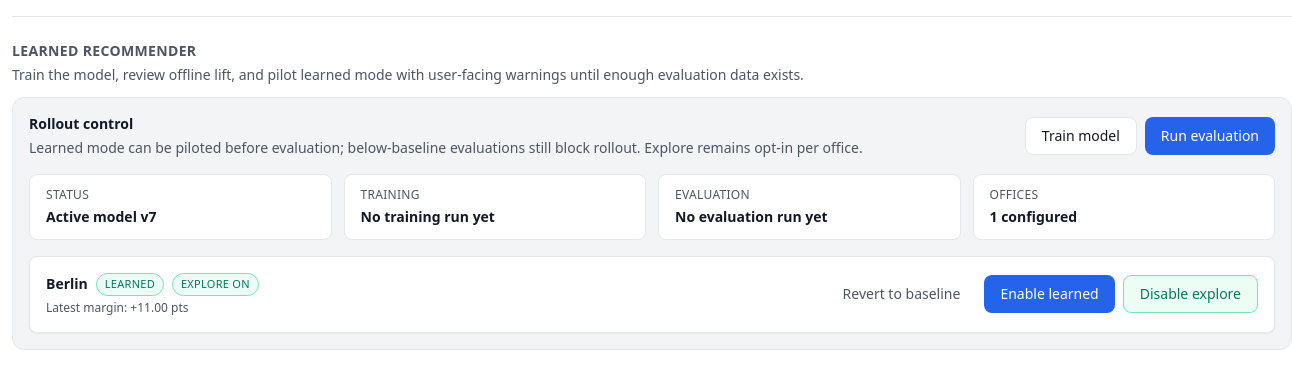
Test: RecommenderAdminPanel › reverts an office back to baseline immediately
Expected: the text "learned" is shown, [96, 273, 164, 296]
Click the button "Revert to baseline" at [902, 294], box [827, 275, 976, 313]
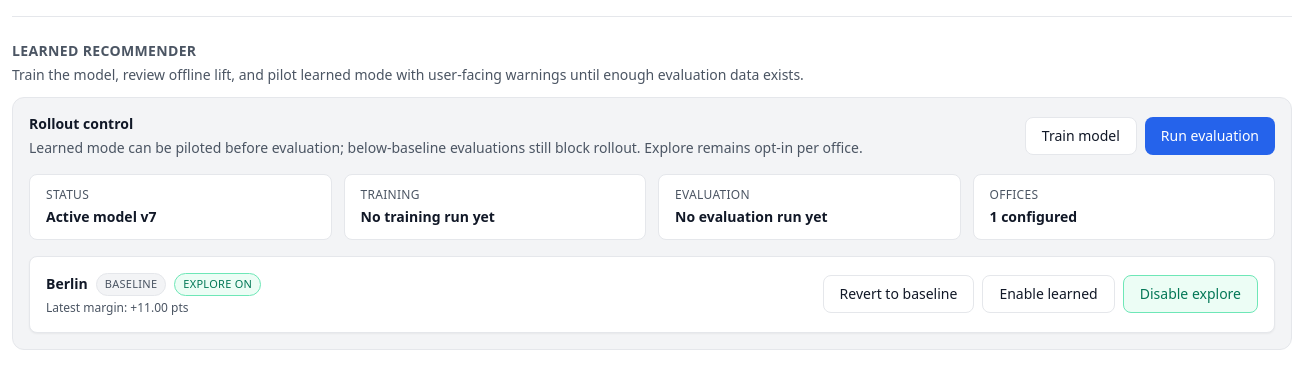
Expected: the text "baseline" is shown, [96, 273, 166, 296]
